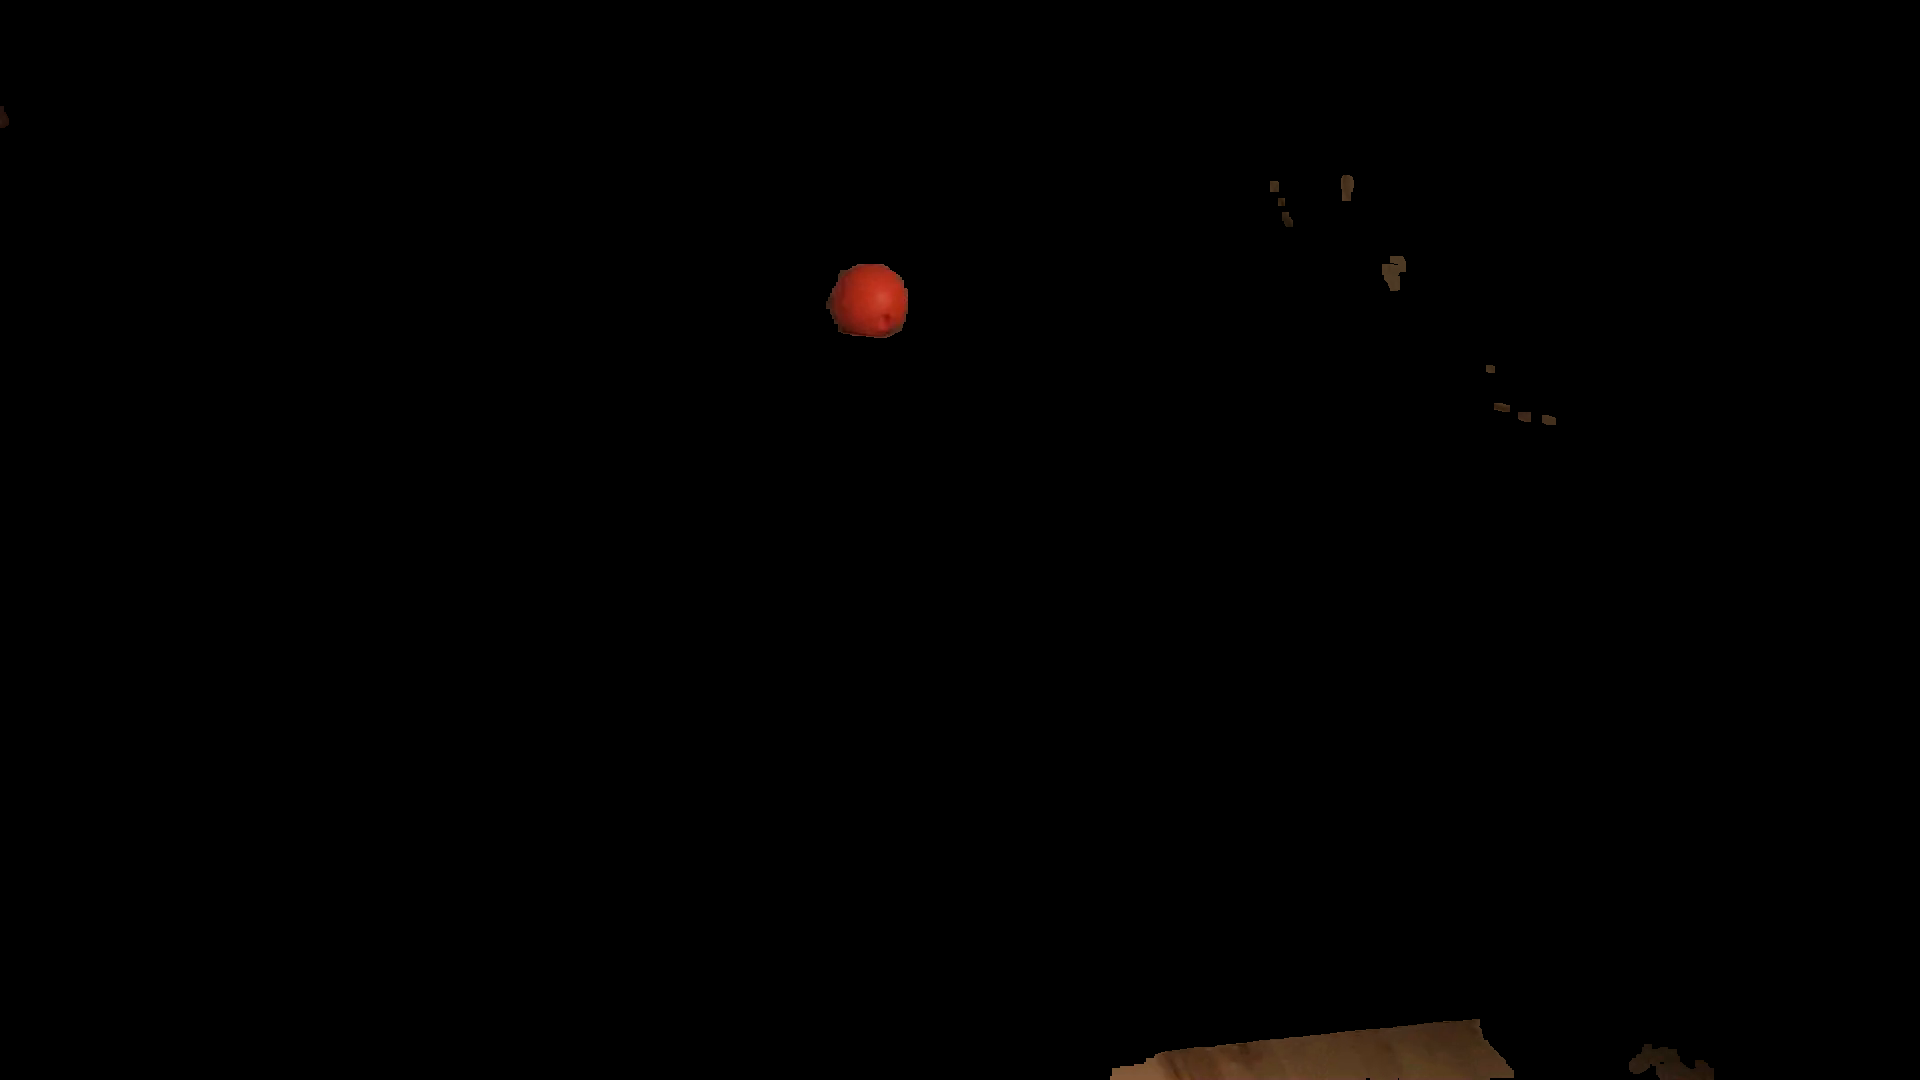Ball: (831, 265, 907, 336)
